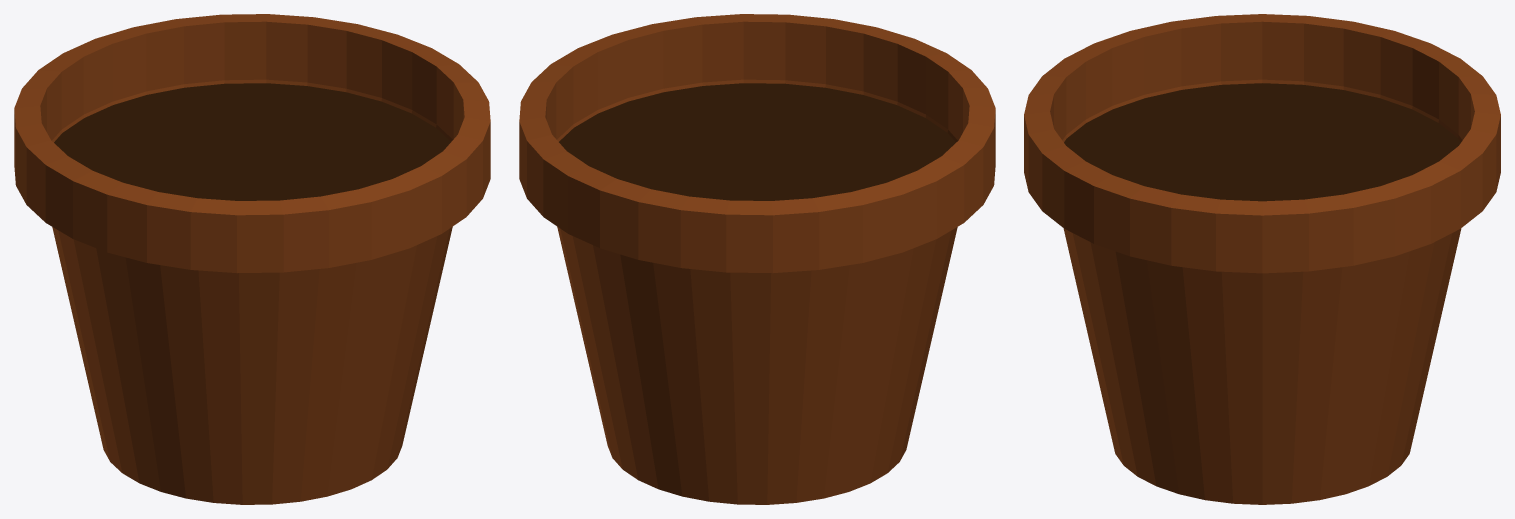
Rendered from pot.gltf.
The picture shows the model from 3 angles, left to right: view 1: azimuth 30°, elevation 25°; view 2: azimuth 150°, elevation 25°; view 3: azimuth 270°, elevation 25°; orthographic projection.
Parts seen in each view (by area): view 1: Circle; view 2: Circle; view 3: Circle.
Part boxes in pixels (x1,y1,x2,y2): Circle: (14, 14, 490, 504); Circle: (519, 14, 995, 504); Circle: (1024, 14, 1500, 504).
Bounding box in the file's own units: 3.18 × 2.43 × 3.18.
